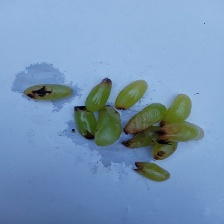grapes: (47, 8, 190, 207)
